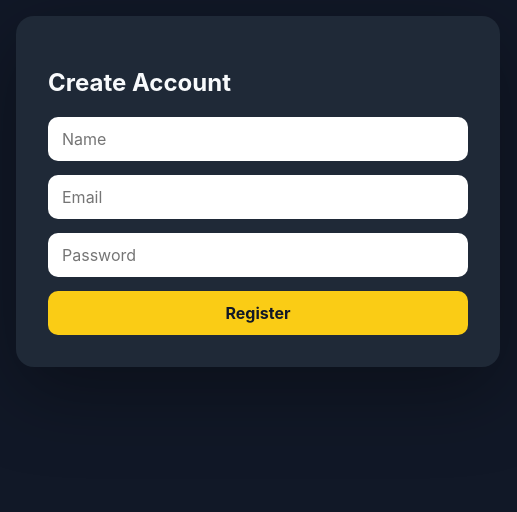
Scenario: Auth Flow - Register, Login, and Logout › TC2 - Successful registration stores token and nudges learner to login
In the field with test id "name-input": (258, 139) [48,117,468,161], type "Alice"
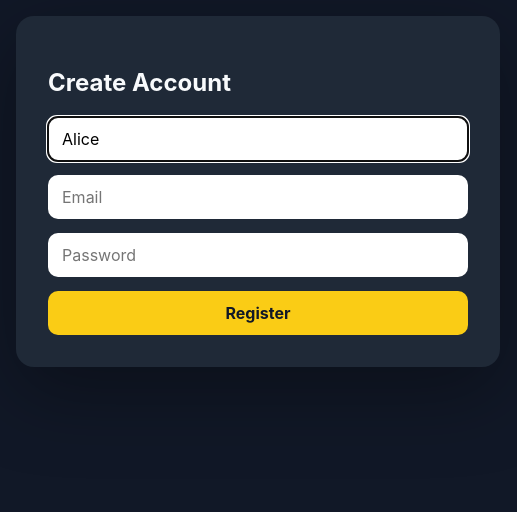
In the field with test id "email-input": (258, 197) [48,175,468,219], type "alice@test.com"
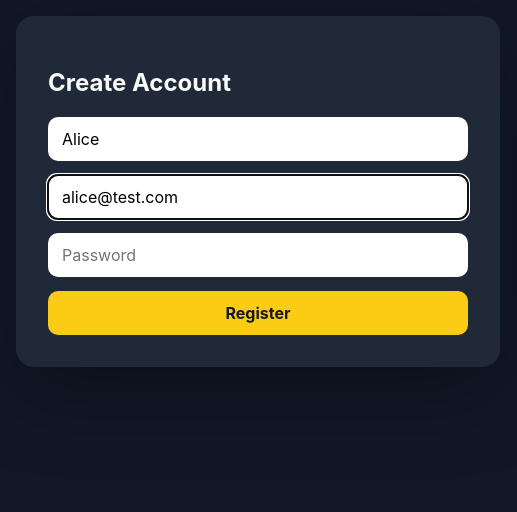
In the password field with test id "password-input": (258, 255) [48,233,468,277], type "secret123"
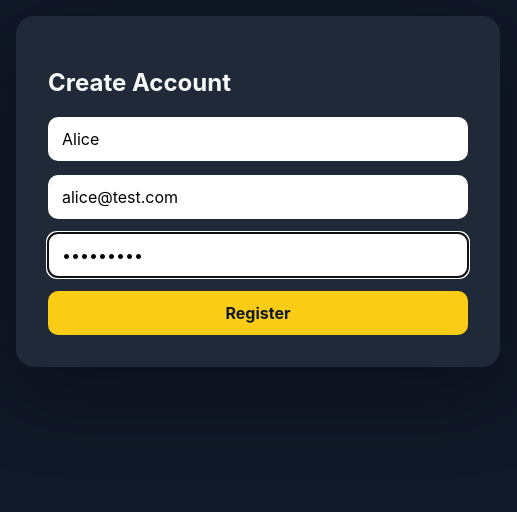
Click the button with test id "register-btn": (258, 313) [48,291,468,335]
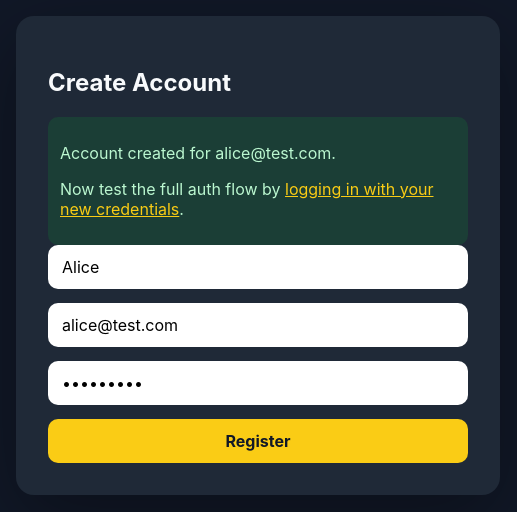
expect the text with test id "register-success" shows "Account created for alice@test.com": met, box [60,143,336,163]
expect the link with test id "login-nudge-link" reads "logging in with your new credentials": met, box [60,179,434,219]
